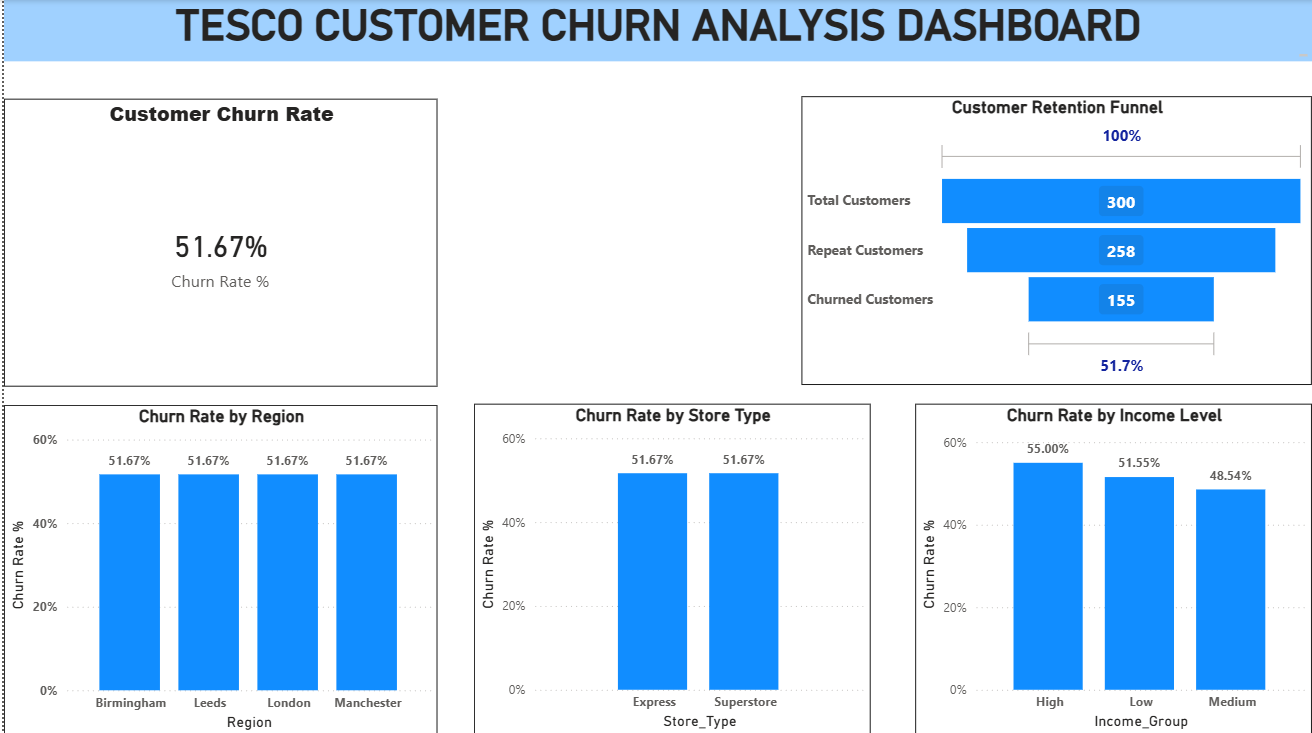

What the dashboard file says about the page in this screenshot:
{"tool":"powerbi","page":{"name":"TESCO CUSTOMER CHURN ANALYSIS DASHBOARD (Task 2)","canvas":[1280,720],"ordinal":0},"visuals":[{"type":"card","title":"Customer Churn Rate","fields":{"Values":["Churn_Labelled_Customers.Churn Rate %"]},"box":[0,96.1,424,281.3],"z":0},{"type":"clusteredColumnChart","title":"Churn Rate by Region","fields":{"Category":["Store_Locations.Region"],"Y":["Churn_Labelled_Customers.Churn Rate %"]},"box":[0,395.7,424.3,324.3],"z":1000},{"type":"clusteredColumnChart","title":"Churn Rate by Income Level","fields":{"Category":["Customer_Demographics.Income_Group"],"Y":["Churn_Labelled_Customers.Churn Rate %"]},"box":[891.7,395,388.3,325],"z":2000},{"type":"clusteredColumnChart","title":"Churn Rate by Store Type","fields":{"Y":["Churn_Labelled_Customers.Churn Rate %"],"Category":["Store_Locations.Store_Type"]},"box":[460,395,388.3,325],"z":3000},{"type":"funnel","title":"Customer Retention Funnel","fields":{"Y":["Customer_Demographics.Total Customers","Customer_Transactions.Repeat Customers","Churn_Labelled_Customers.Churned Customers"]},"box":[780.5,94.7,499.5,282.7],"z":4000},{"type":"textbox","title":"TESCO CUSTOMER CHURN ANALYSIS DASHBOARD","box":[0,0,1280,60],"z":5000}]}

Visuals, with their boxes in screenshot pixels (x1, y1, x2, y2), scaled from the page's 1280x720 canvas onto the 1312x733 screenshot:
"Customer Churn Rate" card: <region>0, 98, 435, 384</region>
"Churn Rate by Region" clusteredColumnChart: <region>0, 403, 435, 732</region>
"Churn Rate by Income Level" clusteredColumnChart: <region>914, 402, 1311, 732</region>
"Churn Rate by Store Type" clusteredColumnChart: <region>471, 402, 870, 732</region>
"Customer Retention Funnel" funnel: <region>800, 96, 1311, 384</region>
"TESCO CUSTOMER CHURN ANALYSIS DASHBOARD" textbox: <region>0, 0, 1311, 61</region>
